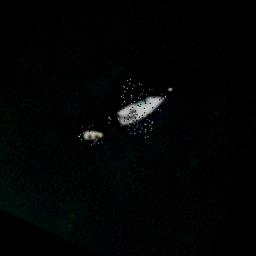boat: (106, 78, 168, 141), (78, 122, 108, 150)
